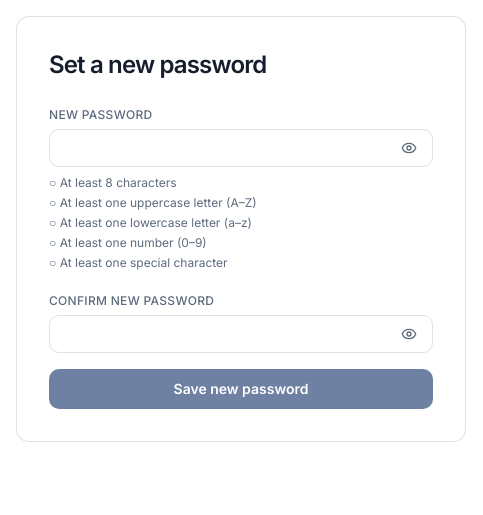
Test: password recovery › keeps the recovery form active and hides backend details when update fails
Type "Fresh-Password-2!" into the password field labelled "New password" at (241,148), box [49,129,433,167]
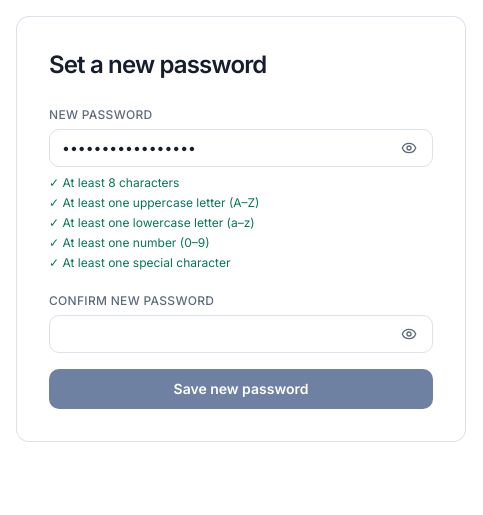
Type "Fresh-Password-2!" into the password field labelled "Confirm new password" at (241,334), box [49,315,433,353]
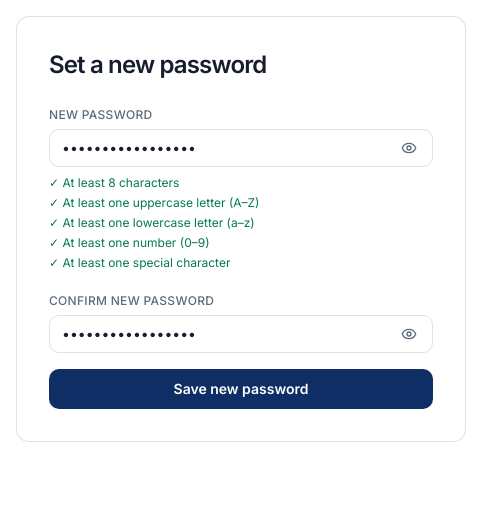
Click the button "Save new password" at (241,389), box [49,369,433,409]
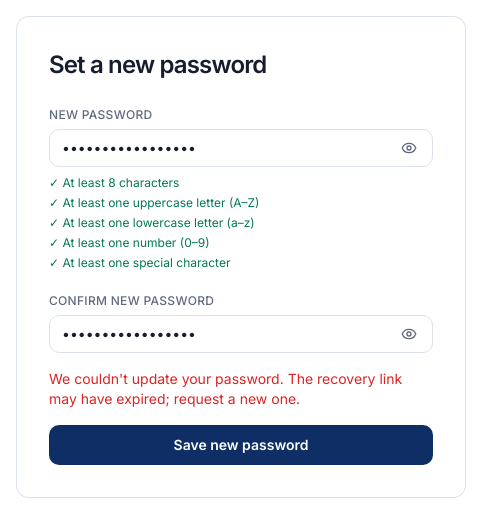
Now the message shows "The recovery link may have expired", box [49,370,402,407]
